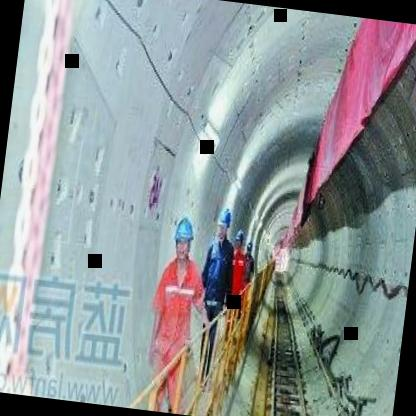helmet: (172, 210, 198, 262), (213, 203, 233, 244), (232, 224, 245, 252)
